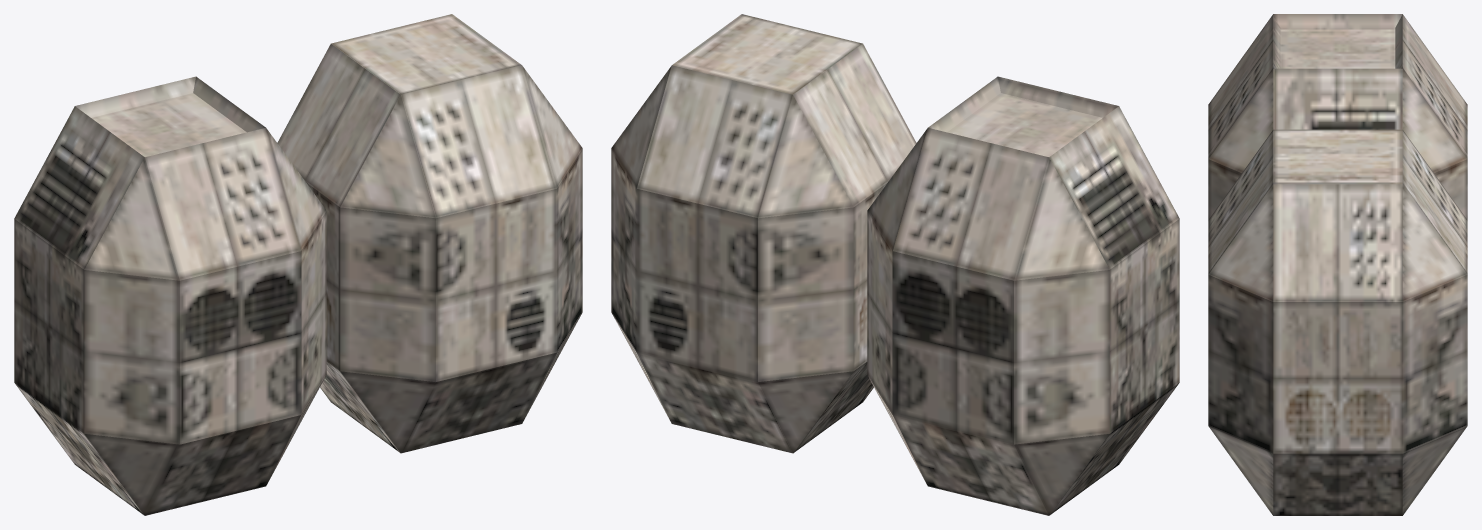
The model's file is thm_tato_debris_s06_l1.fbx.
3 views of the same model, side by side, from view 1: azimuth 30°, elevation 25°; view 2: azimuth 150°, elevation 25°; view 3: azimuth 270°, elevation 25° (orthographic). The views are drawn at different scales.
Visible parts, largest first — view 1: mesh_node; view 2: mesh_node; view 3: mesh_node.
Boxes of the visible parts, <box> form: mesh_node: <box>14,14,582,515</box>; mesh_node: <box>611,14,1179,515</box>; mesh_node: <box>1208,14,1467,515</box>.
Bounding box in the file's own units: 0.7396 × 0.5085 × 0.3598.
Materials: 1 (1 with a texture image).
